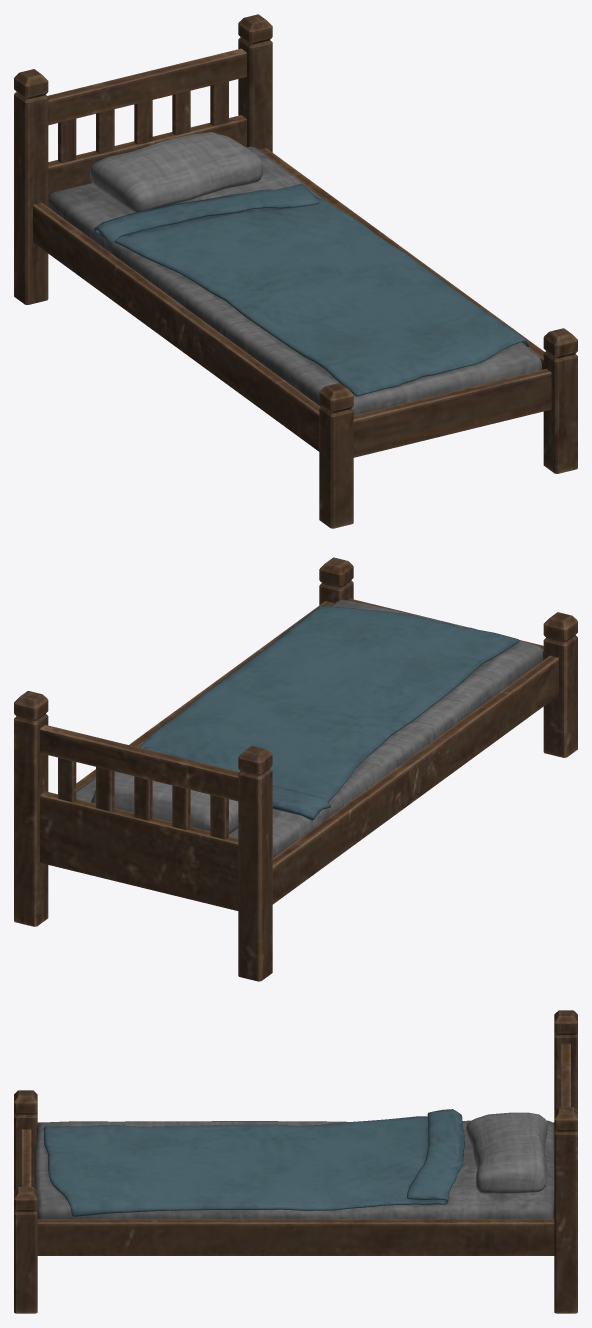
The model's file is bed.glb.
The picture shows the model from 3 angles, top to bottom: view 1: azimuth 30°, elevation 25°; view 2: azimuth 150°, elevation 25°; view 3: azimuth 270°, elevation 25°; orthographic projection. The views are drawn at different scales.
Visible parts, largest first — view 1: Bed; view 2: Bed; view 3: Bed.
Part boxes in pixels (x1,y1,x2,y2): Bed: (14, 14, 577, 528); Bed: (14, 557, 577, 981); Bed: (14, 1010, 577, 1313).
Size of the model in its own units: 0.7864 by 0.6818 by 1.76.
1 material, 1 textured.
